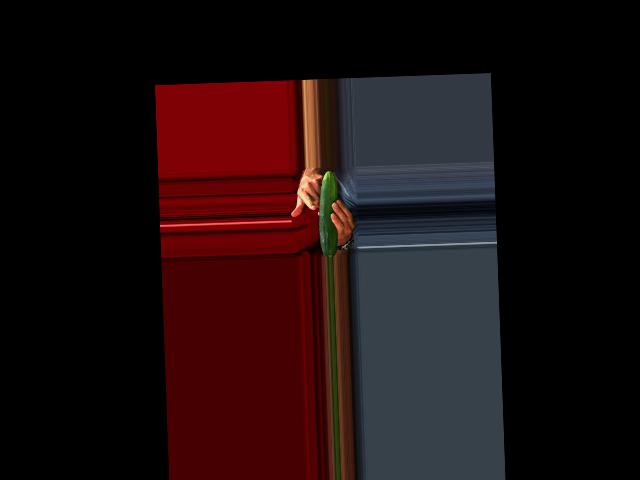cucumber: (317, 171, 340, 257)
